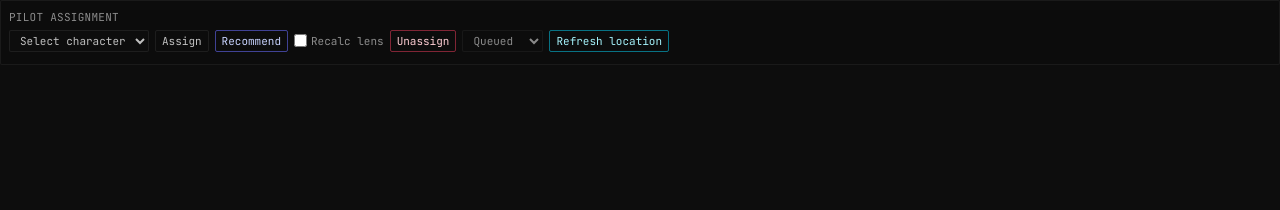
Test: RoutePilotAssignmentsPanel › unassign behavior
Select "Pilot One" in the dropdown named "Assigned character" at (79, 41), box [9,30,149,52]
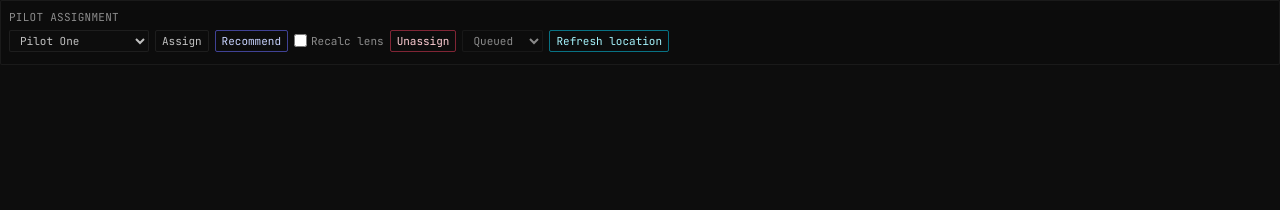
Click the button "Assign".
click(182, 41)  # box [155,30,209,52]
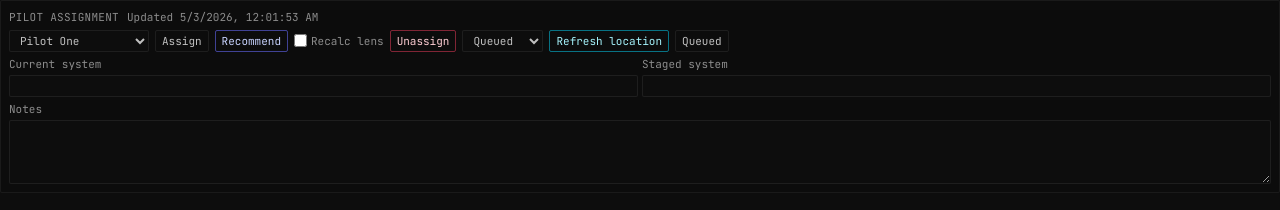
Click the button "Unassign".
click(423, 41)  # box [390,30,456,52]
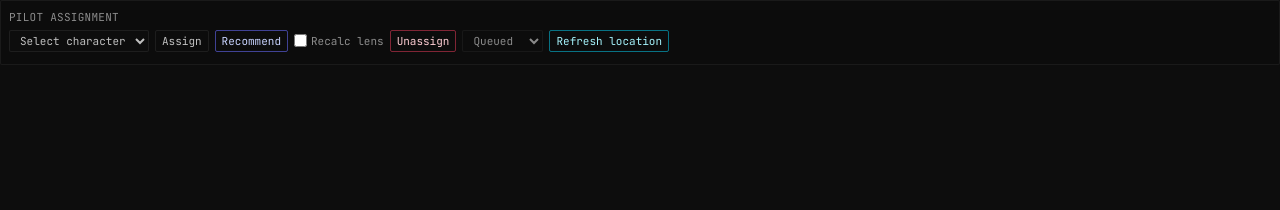
Now the text with test id "route-assignment-status-chip" is gone
